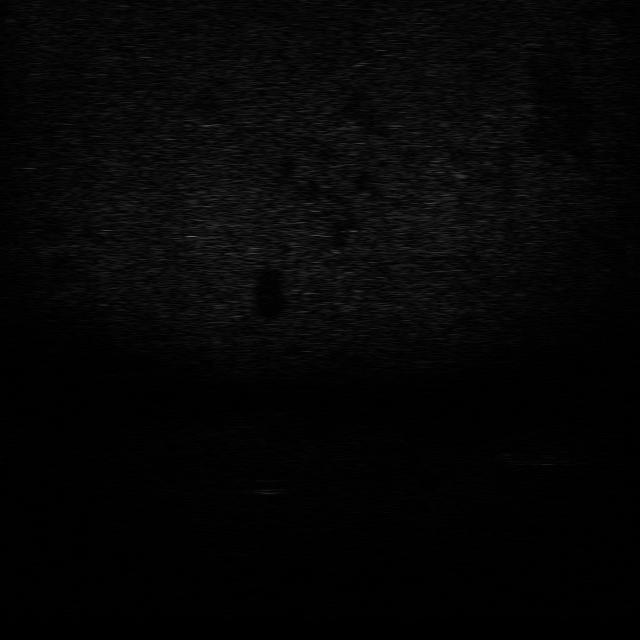ball: (248, 474, 290, 497)
human body: (500, 440, 594, 468)
